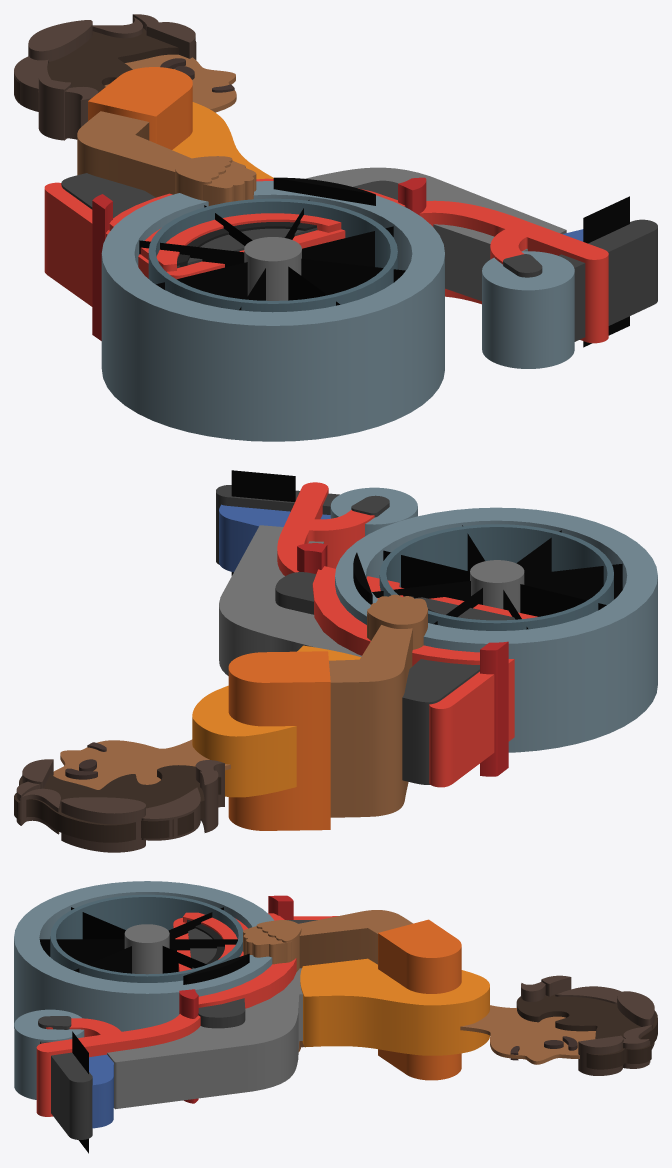
Rendered from emoji_u1f9d1_1f3fe_200d_1f9bd_200d_27a1.glb.
The picture shows the model from 3 angles, top to bottom: view 1: azimuth 30°, elevation 25°; view 2: azimuth 150°, elevation 25°; view 3: azimuth 270°, elevation 25°; orthographic projection. The views are drawn at different scales.
Visible parts, largest first — view 1: emoji_u1f9d1_1f3fe_200d_1f9bd_200d_27a1; view 2: emoji_u1f9d1_1f3fe_200d_1f9bd_200d_27a1; view 3: emoji_u1f9d1_1f3fe_200d_1f9bd_200d_27a1.
Part boxes in pixels (bbox=[...]): emoji_u1f9d1_1f3fe_200d_1f9bd_200d_27a1: bbox=[14, 14, 657, 441]; emoji_u1f9d1_1f3fe_200d_1f9bd_200d_27a1: bbox=[14, 470, 657, 852]; emoji_u1f9d1_1f3fe_200d_1f9bd_200d_27a1: bbox=[14, 881, 657, 1153].
Size of the model in its own units: 0.0221 by 0.0068 by 0.0324.
